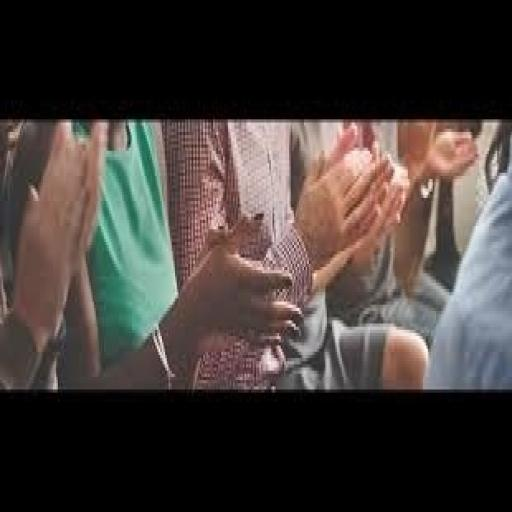clapping: (77, 65, 303, 428), (180, 98, 397, 400), (335, 83, 495, 289)
